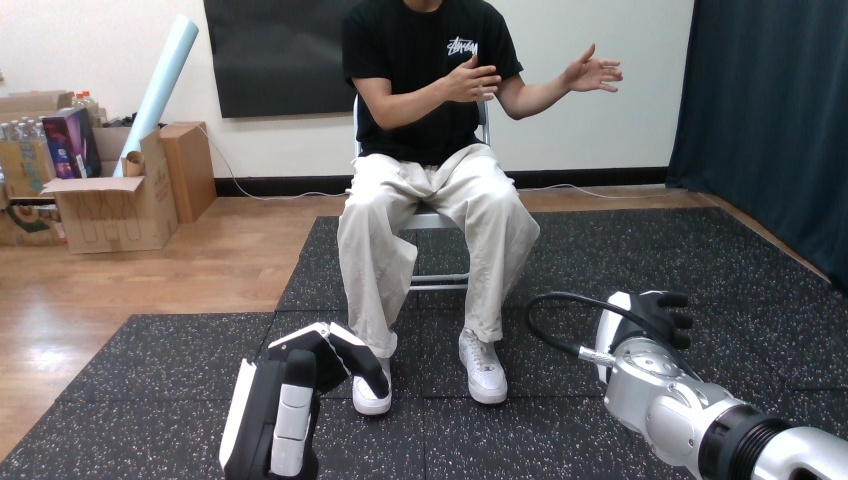left robot hand: (524, 290, 847, 479), (219, 322, 389, 478), (437, 55, 501, 102), (562, 44, 622, 91)
